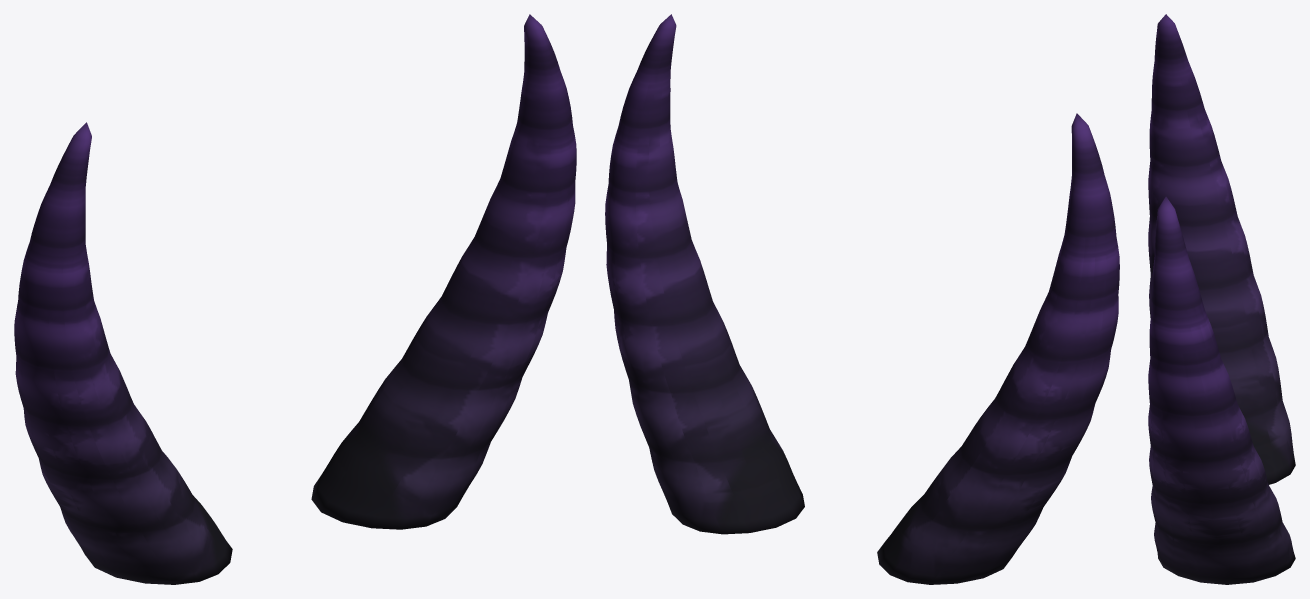
File: DemonHorns.glb
The picture shows the model from 3 angles, left to right: view 1: azimuth 30°, elevation 25°; view 2: azimuth 150°, elevation 25°; view 3: azimuth 270°, elevation 25°; orthographic projection. The views are drawn at different scales.
Parts seen in each view (by area): view 1: DemonHorns; view 2: DemonHorns; view 3: DemonHorns.
Boxes of the visible parts, x1=… form: DemonHorns: x1=14, y1=14, x2=576, y2=584; DemonHorns: x1=605, y1=14, x2=1119, y2=584; DemonHorns: x1=1148, y1=14, x2=1295, y2=584.
Bounding box in the file's own units: 2.14 × 1.82 × 0.5905.
1 material, 1 textured.
